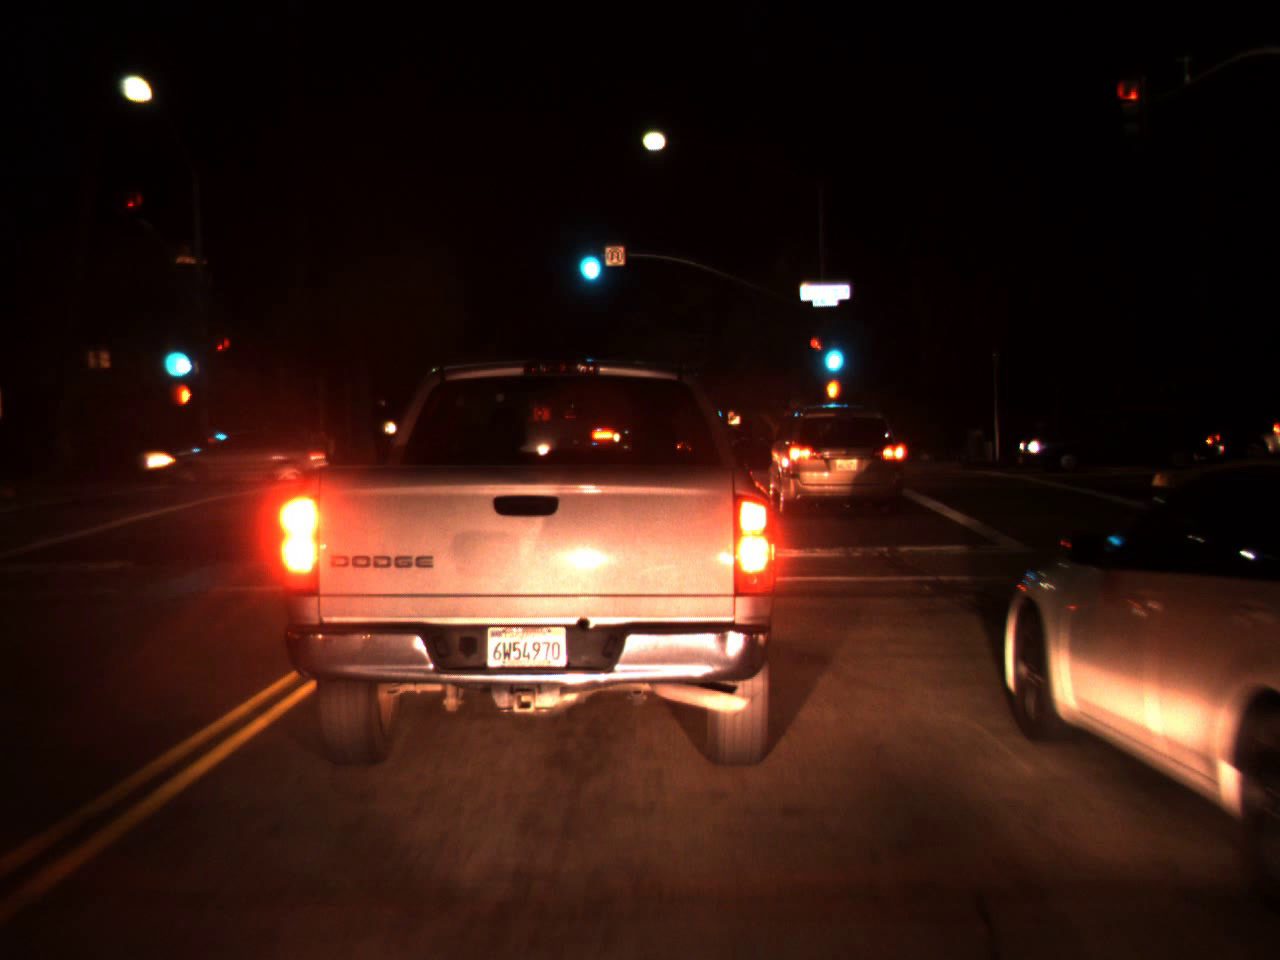go: (155, 321, 194, 384), (571, 226, 605, 289), (817, 321, 847, 381)
